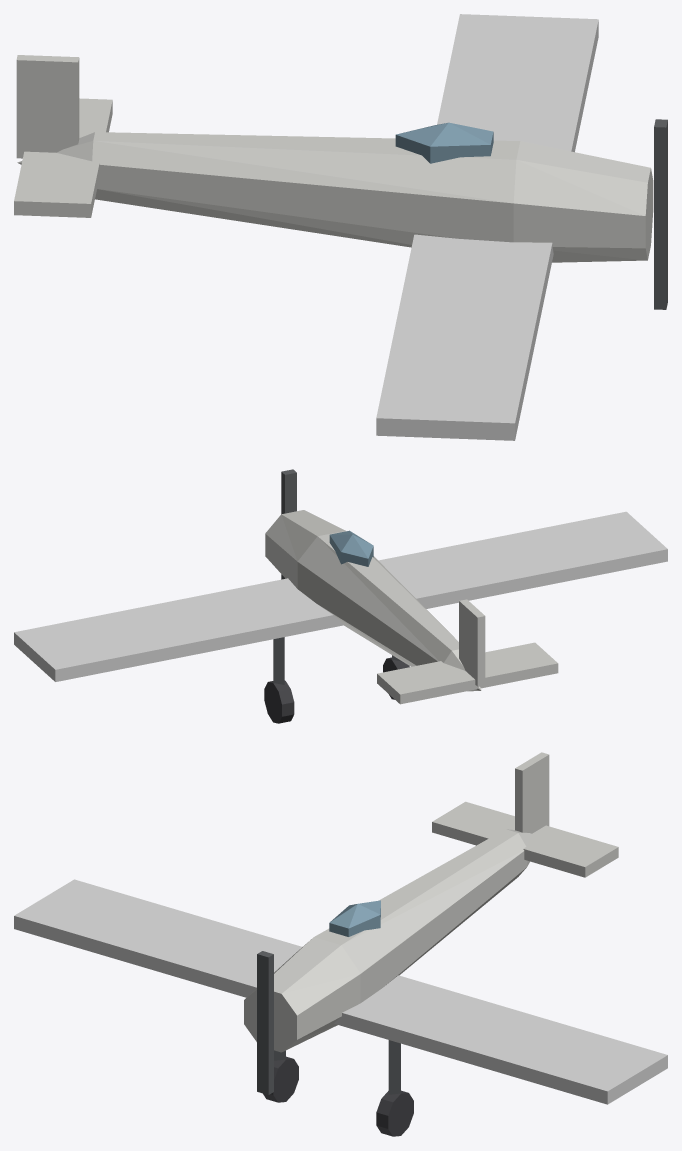
The model's file is zero.glb.
3 renders of one model, top to bottom at view 1: azimuth 30°, elevation 25°; view 2: azimuth 150°, elevation 25°; view 3: azimuth 270°, elevation 25°, orthographic. The views are drawn at different scales.
Visible parts, largest first — view 1: LOD0; view 2: LOD0; view 3: LOD0.
Boxes of the visible parts, left/top/right/bottom form: LOD0: left=14, top=14, right=667, bottom=440; LOD0: left=14, top=469, right=667, bottom=723; LOD0: left=14, top=752, right=667, bottom=1136.
Size of what is drawn, in the model's own units: 1.01 by 0.45 by 1.12.
